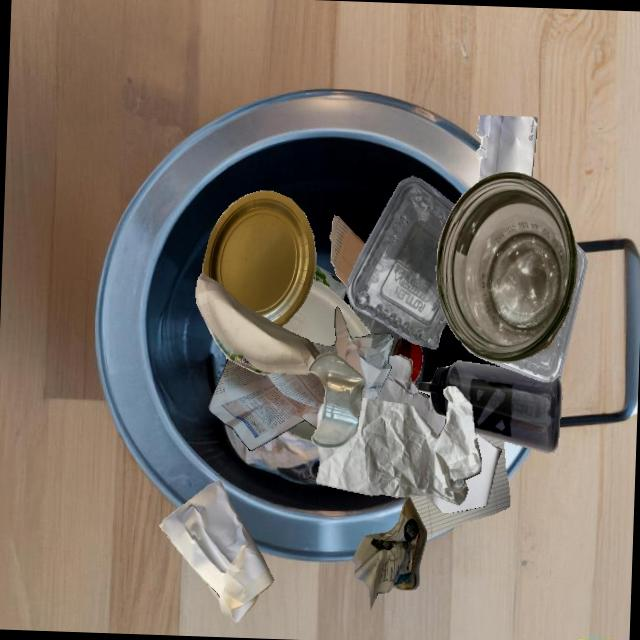cardboard: (329, 215, 365, 287)
glass: (436, 172, 577, 362), (307, 351, 364, 448)
paper: (315, 385, 481, 505), (159, 480, 273, 622), (202, 190, 316, 326), (195, 273, 320, 374), (208, 358, 325, 450), (409, 434, 509, 537), (351, 496, 426, 609), (311, 305, 393, 399), (425, 433, 501, 513), (375, 354, 446, 436), (476, 114, 537, 182)
plastic: (346, 176, 454, 349), (462, 242, 587, 381), (416, 360, 562, 452), (312, 265, 423, 382), (227, 279, 312, 420), (309, 279, 370, 345)
